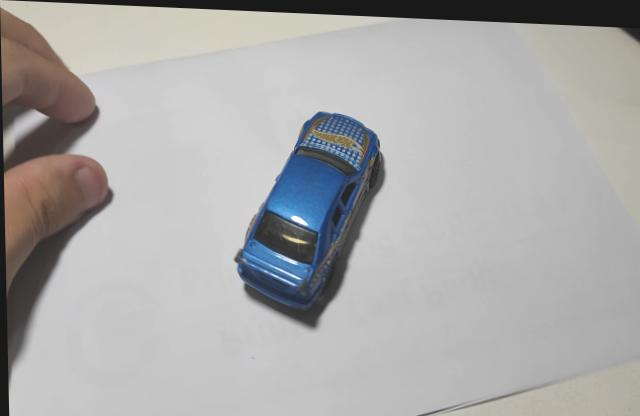04_MERZEDES: (233, 109, 385, 309)
